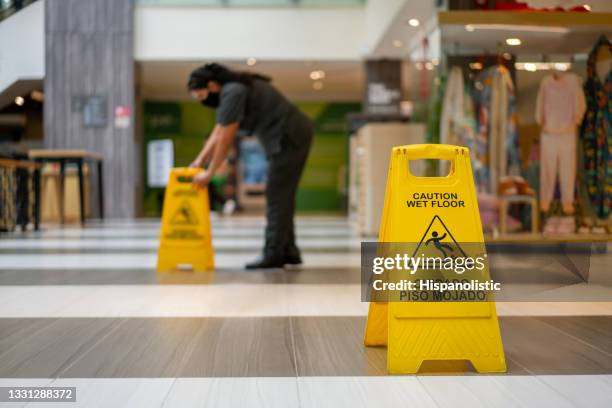wet caution sign: (341, 135, 513, 385), (152, 162, 227, 289)
